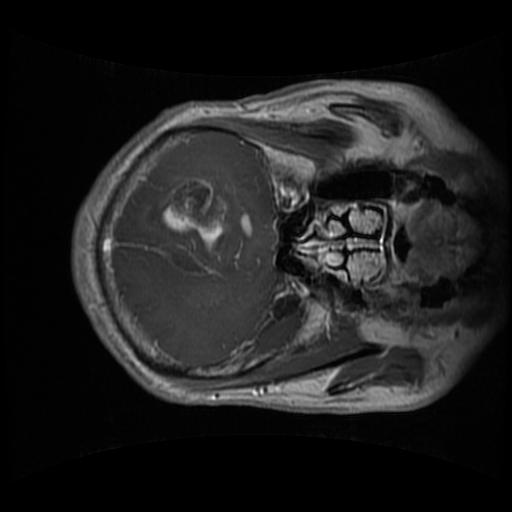glioma: (156, 176, 227, 259)
